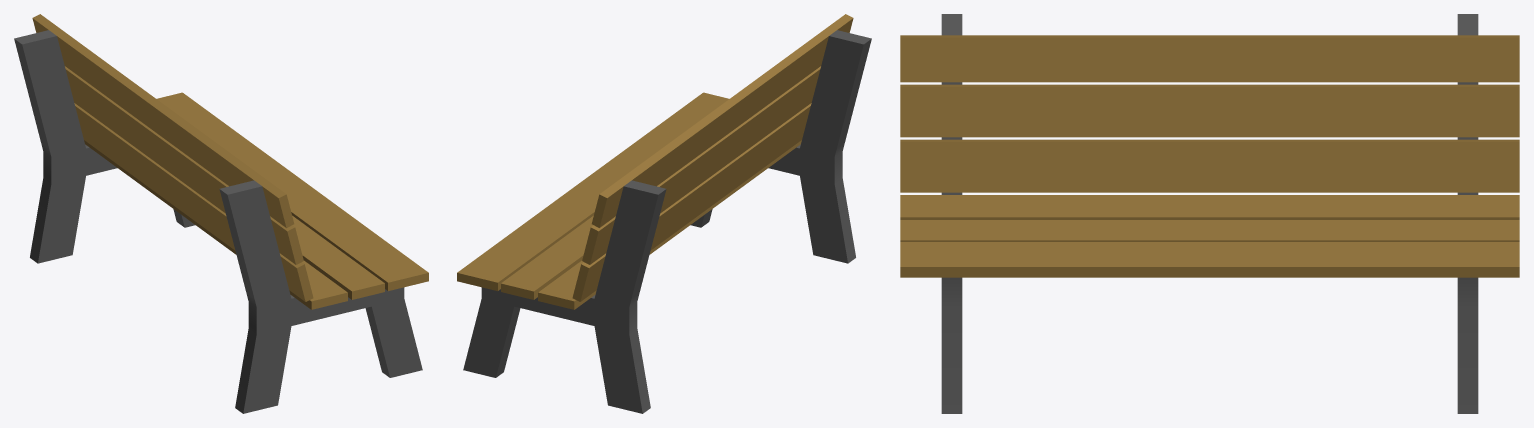
The model's file is bench_01.fbx.
3 renders of one model, left to right at view 1: azimuth 30°, elevation 25°; view 2: azimuth 150°, elevation 25°; view 3: azimuth 270°, elevation 25°, orthographic. The views are drawn at different scales.
Visible parts, largest first — view 1: Bench; view 2: Bench; view 3: Bench.
Part boxes in pixels (x1,y1,x2,y2): Bench: (14, 14, 428, 413); Bench: (457, 14, 871, 413); Bench: (900, 14, 1519, 413).
Size of the model in its own units: 4.8 by 5.29 by 10.49.
